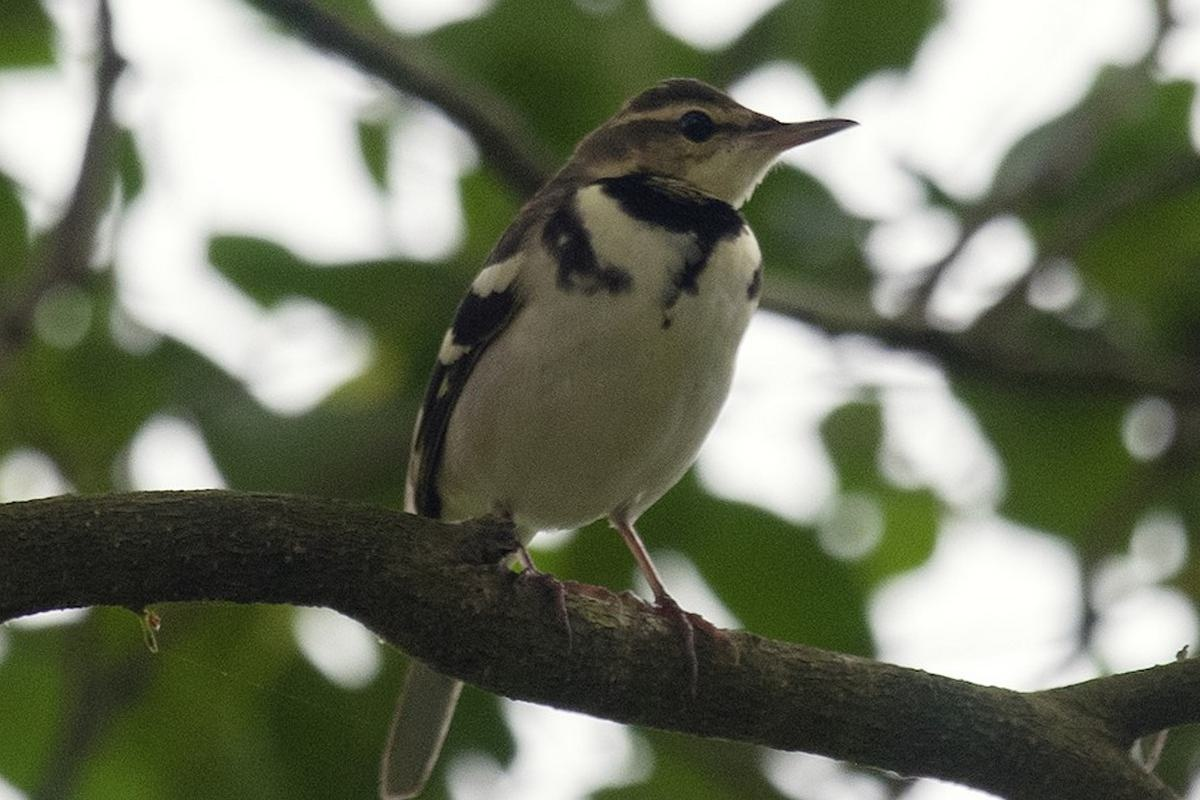wagtail: (299, 66, 863, 640)
